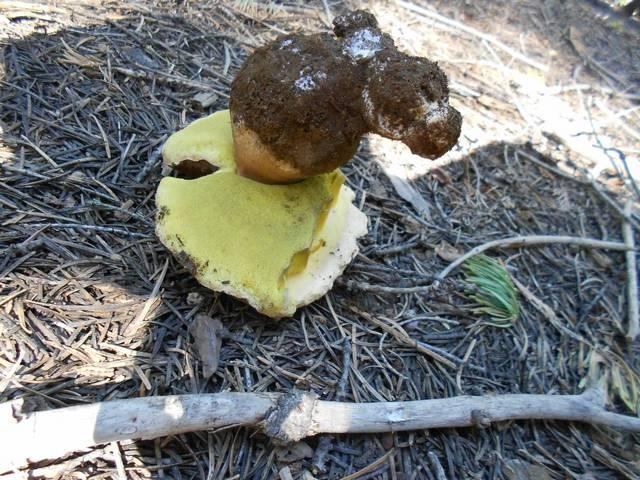Edible Mushroom: (153, 8, 462, 319)
